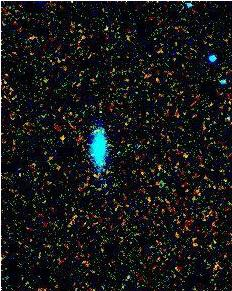star: (48, 123, 78, 153)
